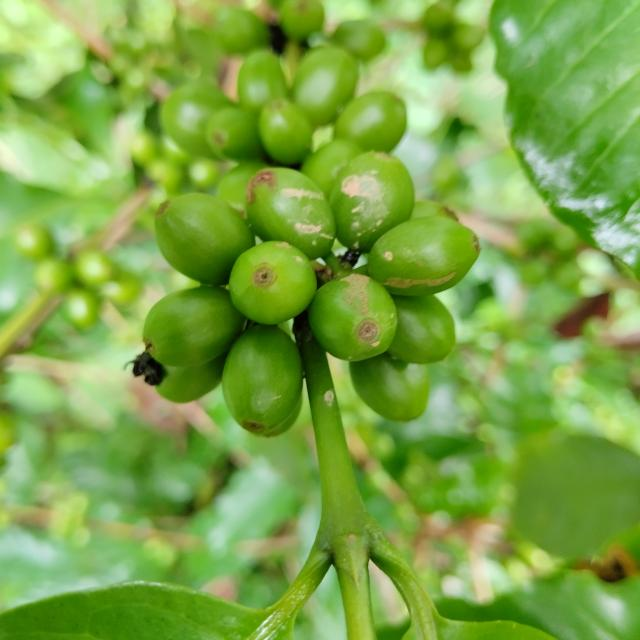green: (154, 193, 255, 285), (368, 215, 481, 296), (222, 325, 303, 433), (329, 151, 415, 252), (246, 167, 336, 260), (142, 286, 246, 366), (308, 273, 398, 361), (229, 241, 316, 325), (350, 352, 430, 422), (388, 295, 456, 364), (335, 91, 407, 151), (301, 138, 364, 197), (155, 352, 227, 403), (259, 98, 313, 165), (206, 106, 264, 160), (255, 395, 302, 438)
